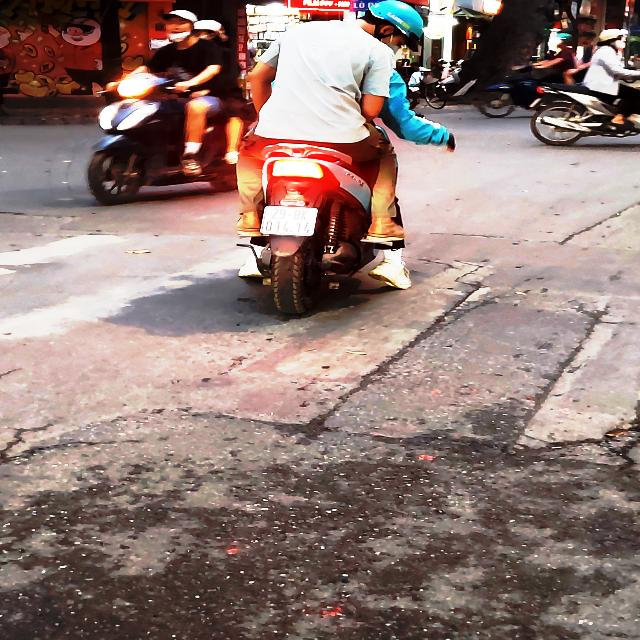license_plate: (258, 203, 324, 239)
